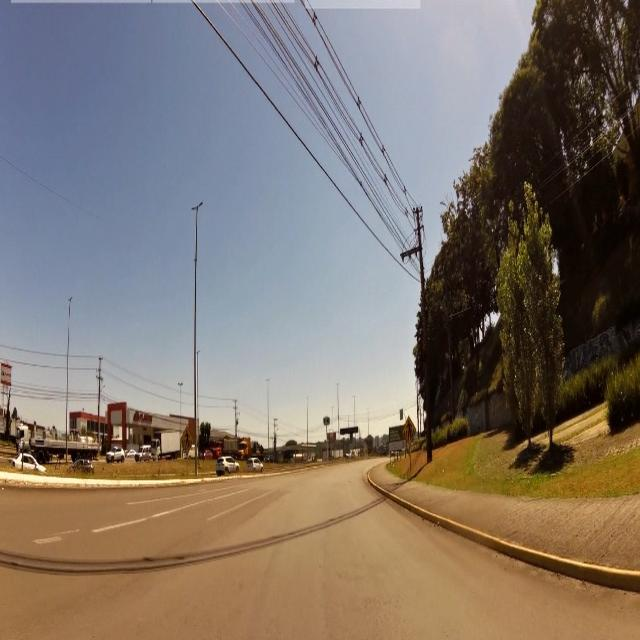A-32b: (404, 414, 416, 448)
